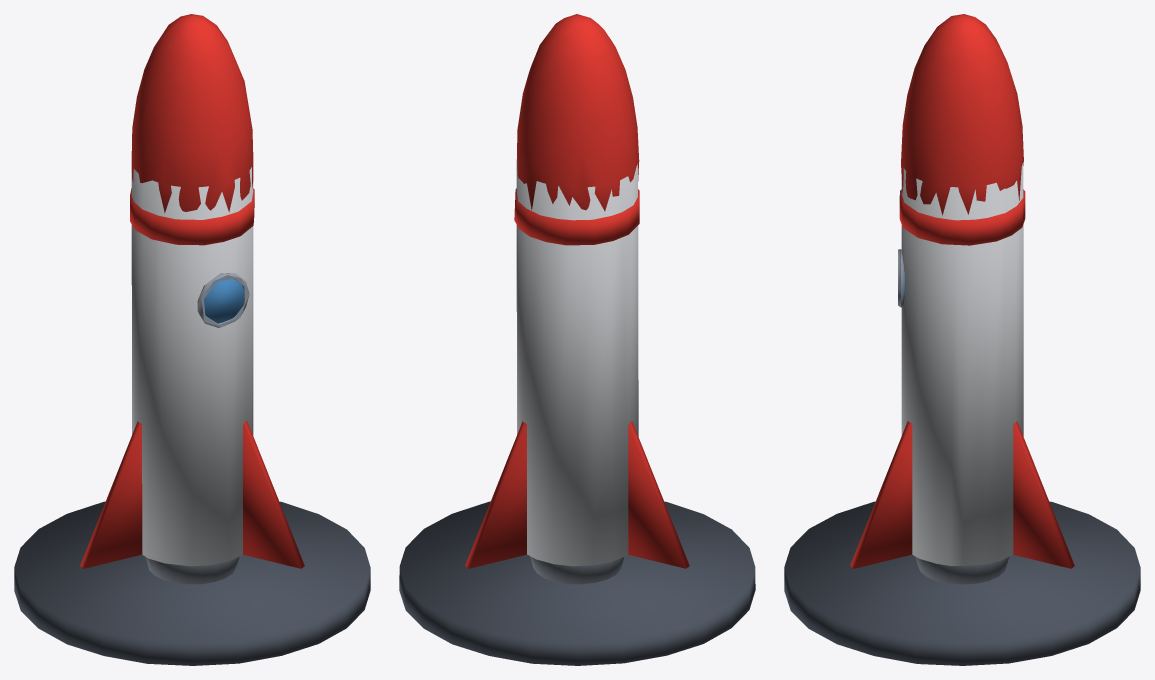
The model's file is sp_rocket_lod.glb.
3 renders of one model, left to right at view 1: azimuth 30°, elevation 25°; view 2: azimuth 150°, elevation 25°; view 3: azimuth 270°, elevation 25°, orthographic.
Visible parts, largest first — view 1: sp_rocket_lod; view 2: sp_rocket_lod; view 3: sp_rocket_lod.
Boxes of the visible parts, x1,y1,x2,y2 form: sp_rocket_lod: [14, 14, 370, 665]; sp_rocket_lod: [399, 14, 755, 665]; sp_rocket_lod: [784, 14, 1140, 665].
Bounding box in the file's own units: 6.38 × 11.35 × 6.38.
